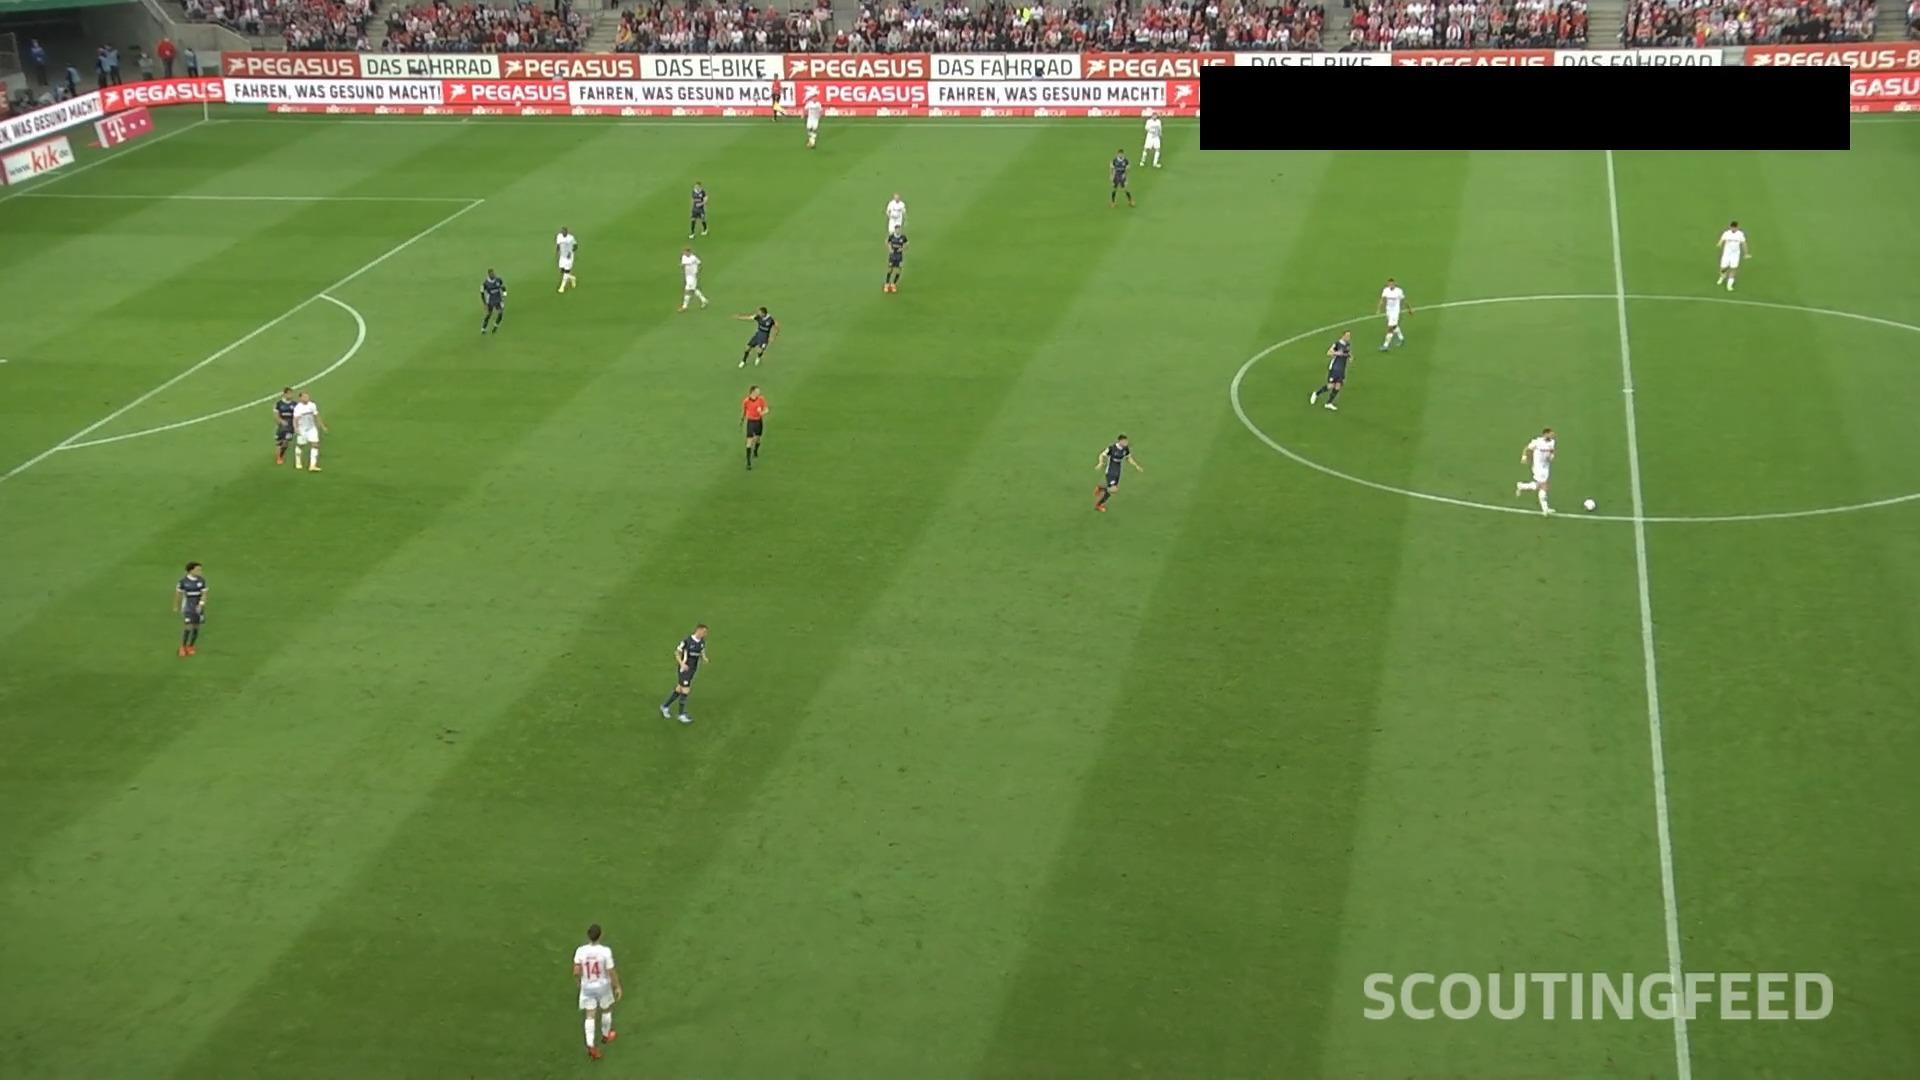ball: (1582, 498, 1597, 512)
